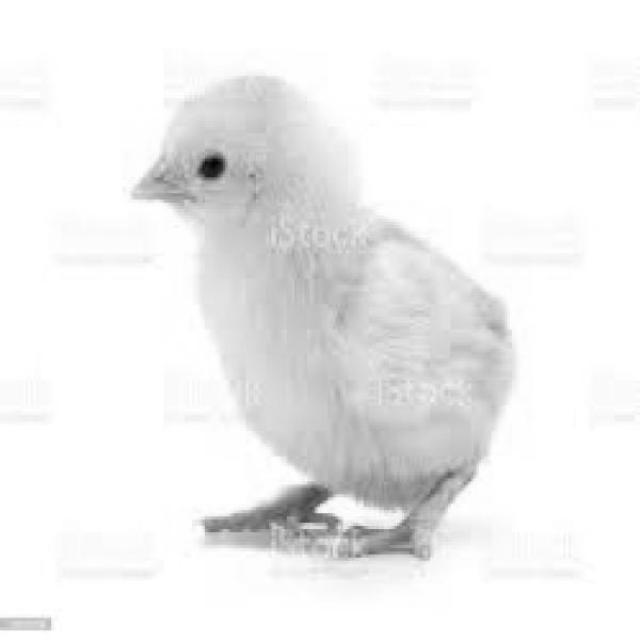poussin: (138, 53, 510, 572)
